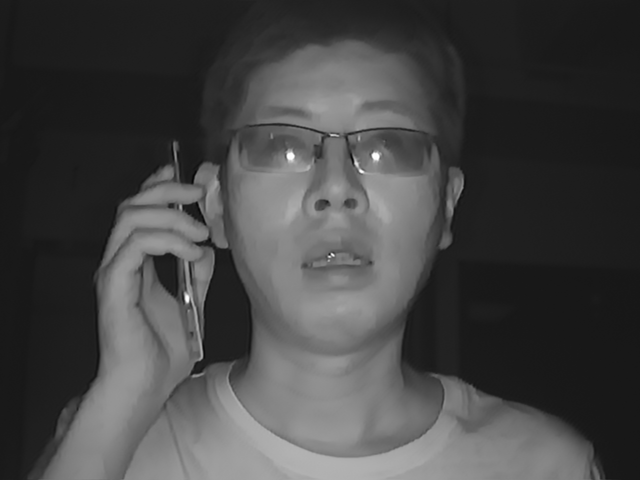hand: (91, 164, 215, 378)
